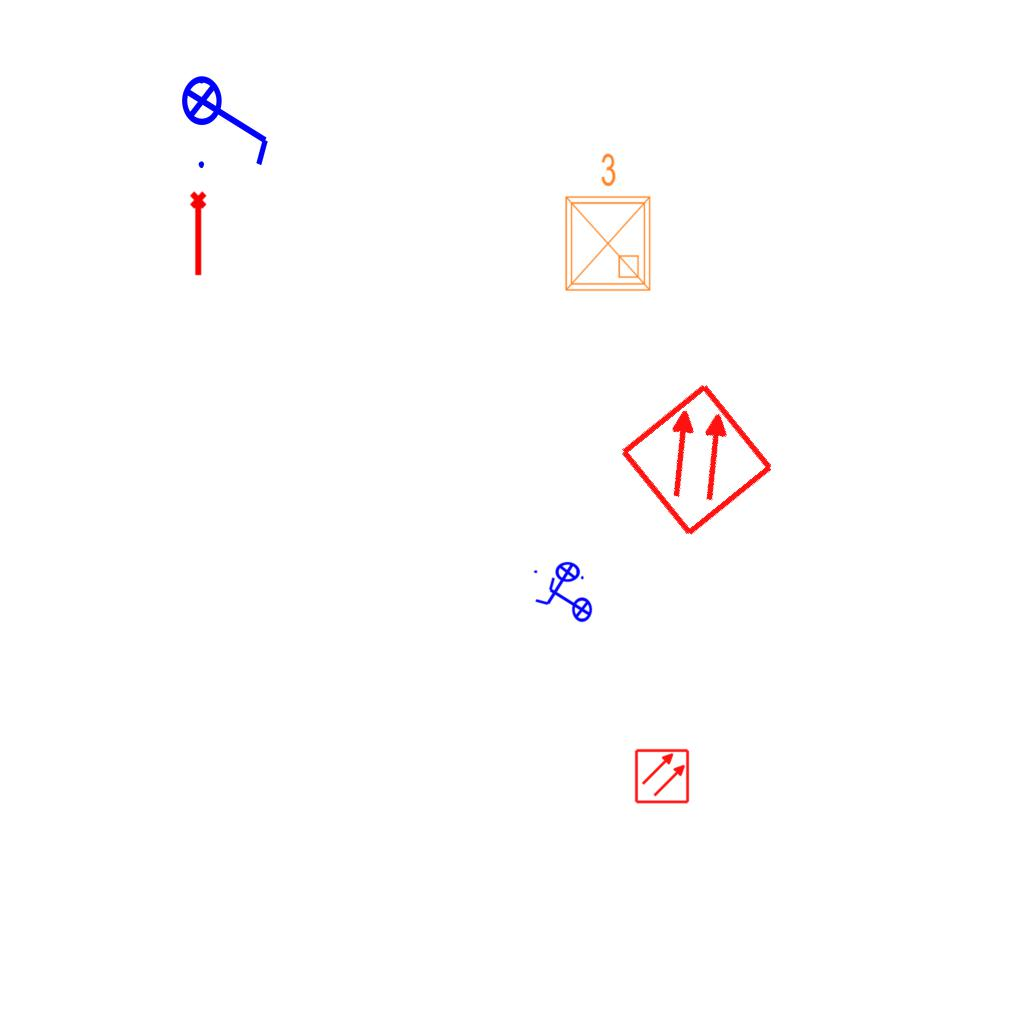ASR_Ansaugoeffnung: (188, 190, 211, 278)
Ausschalter_beleuchtet: (180, 62, 276, 174), (531, 561, 587, 609), (545, 573, 593, 629)
Einbaudownlights_LED_Konferenzraeume: (554, 148, 658, 298)
RMO_Rauchmelder_optischer: (617, 380, 776, 539), (634, 748, 690, 804)
